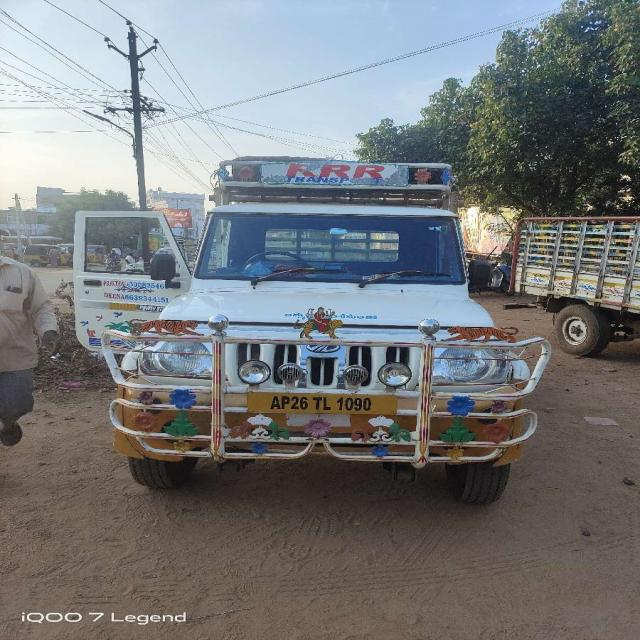light_vehicle: (77, 204, 527, 462)
